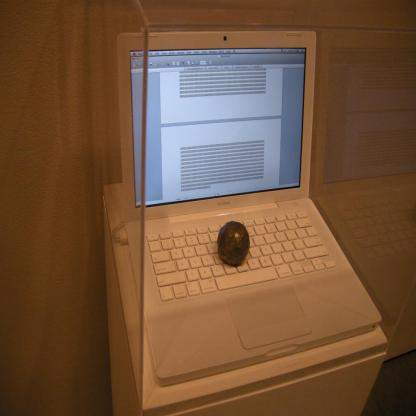board: (112, 27, 372, 400), (215, 221, 250, 270)
